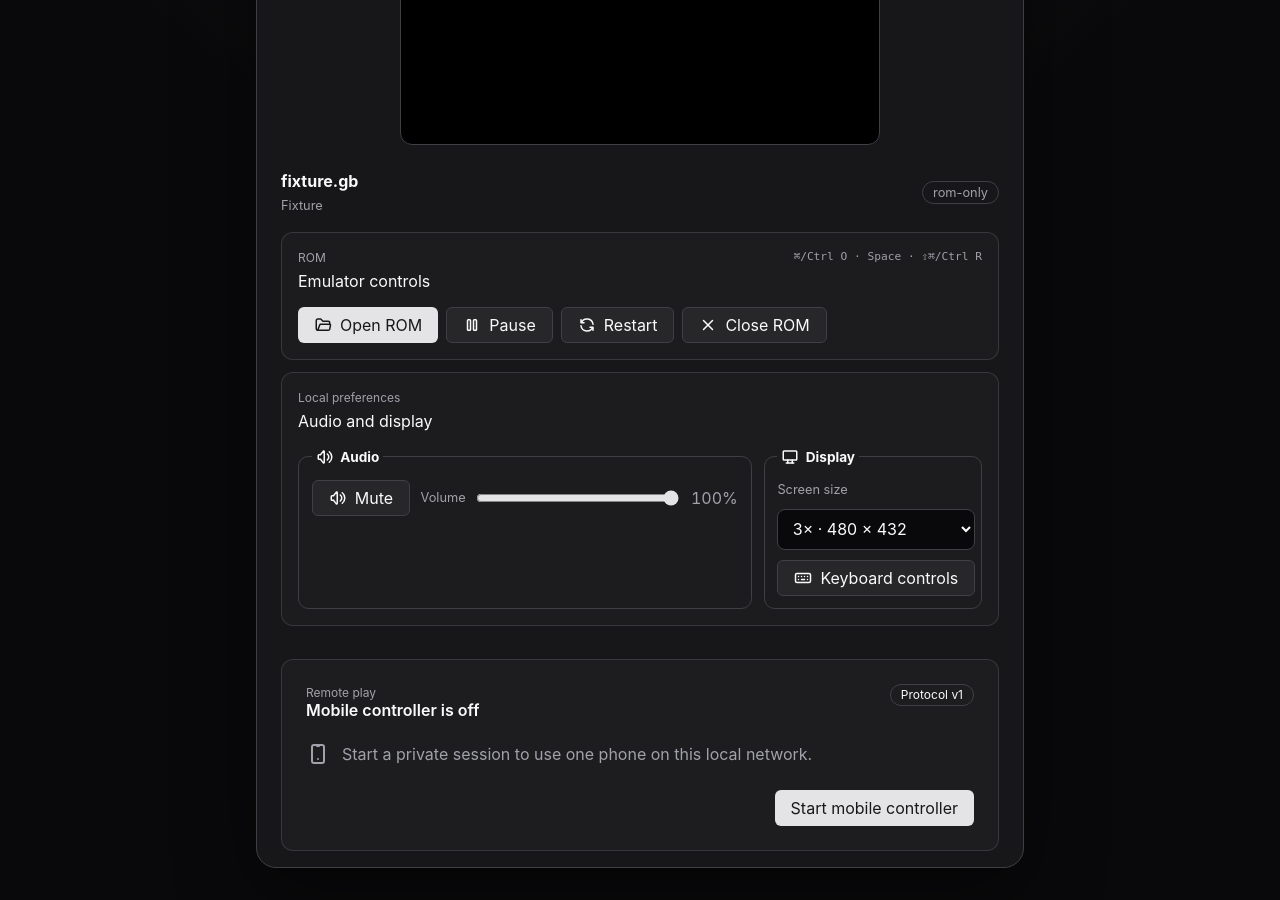
EmulatorPage lifecycle › activates a saved remap and suspends gameplay while the dialog is open
(page scrolled)
Click the button "Keyboard controls".
click(876, 578)  # box [777,560,975,596]
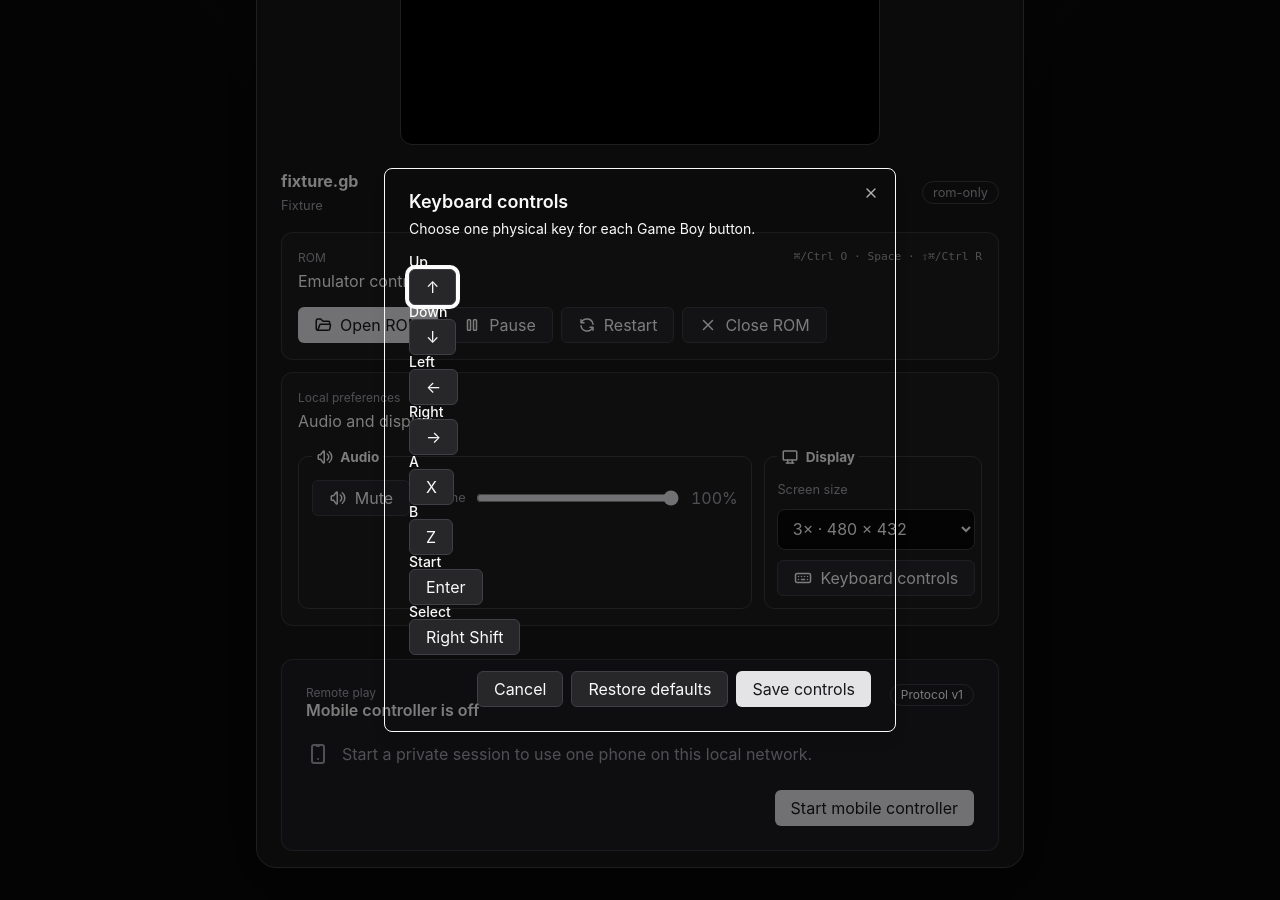
Click the button named "A: X".
click(431, 487)  # box [409,469,454,505]
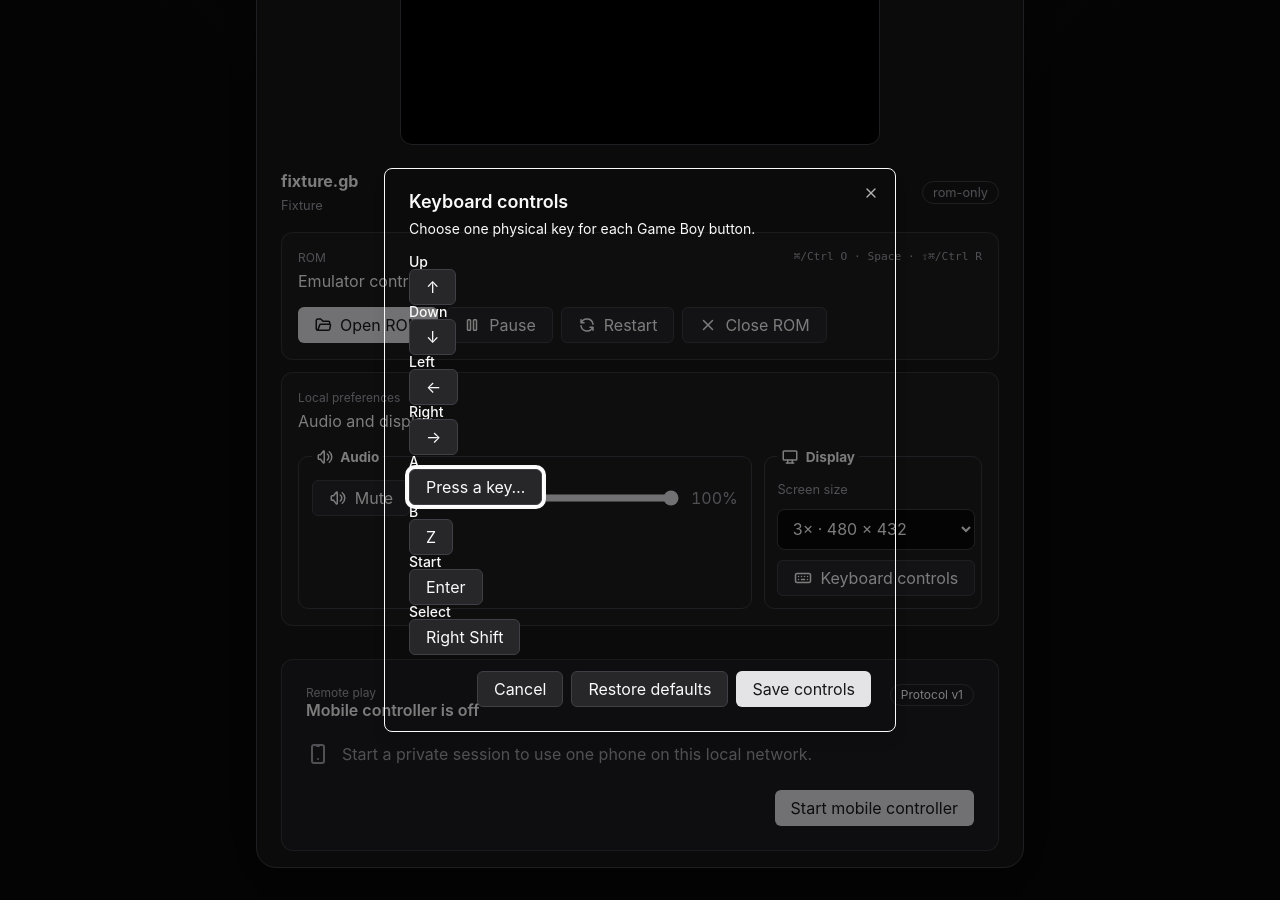
Press KeyQ in the button "Press a key…", box [409,469,542,505]
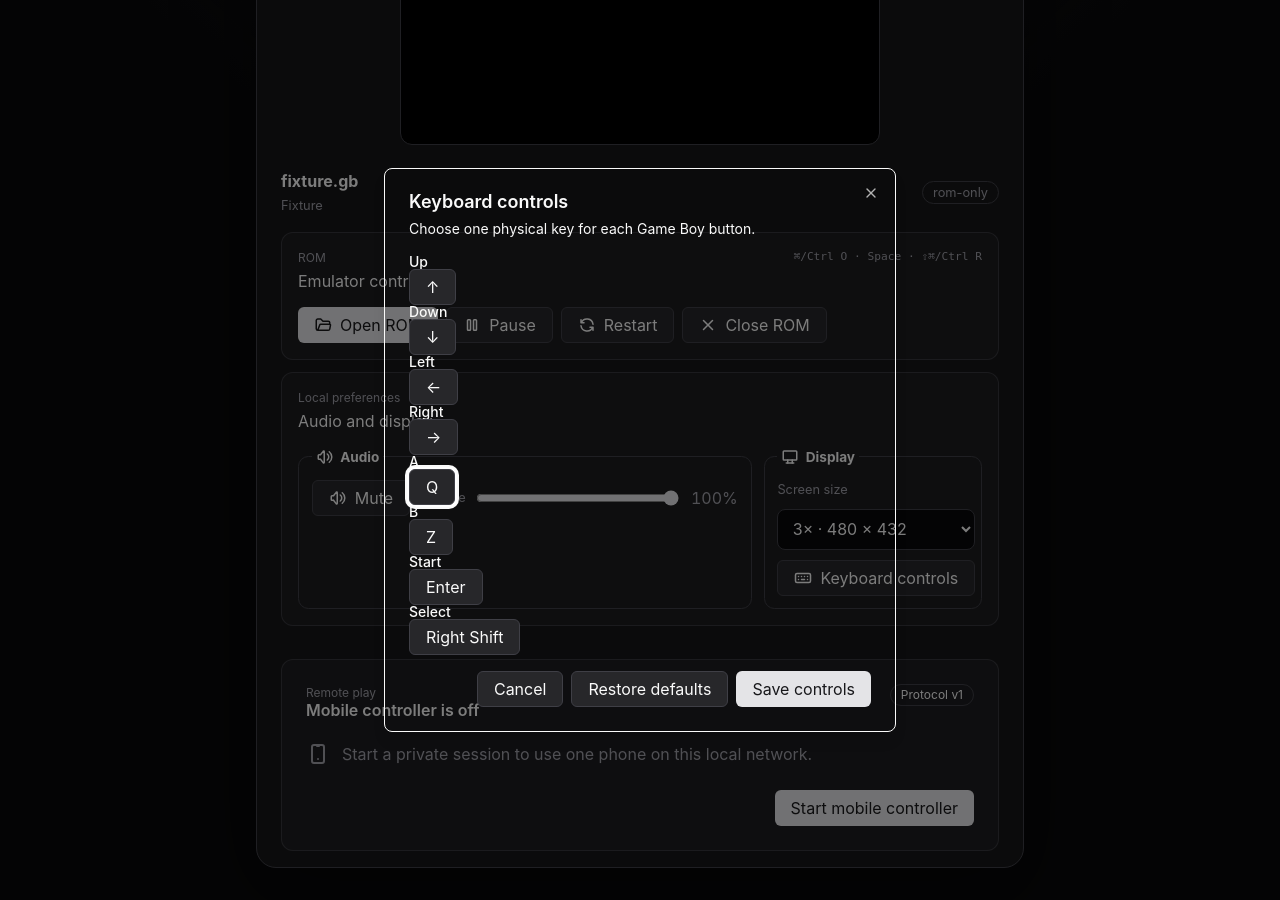
Click the button "Save controls".
click(804, 689)  # box [736,671,871,707]
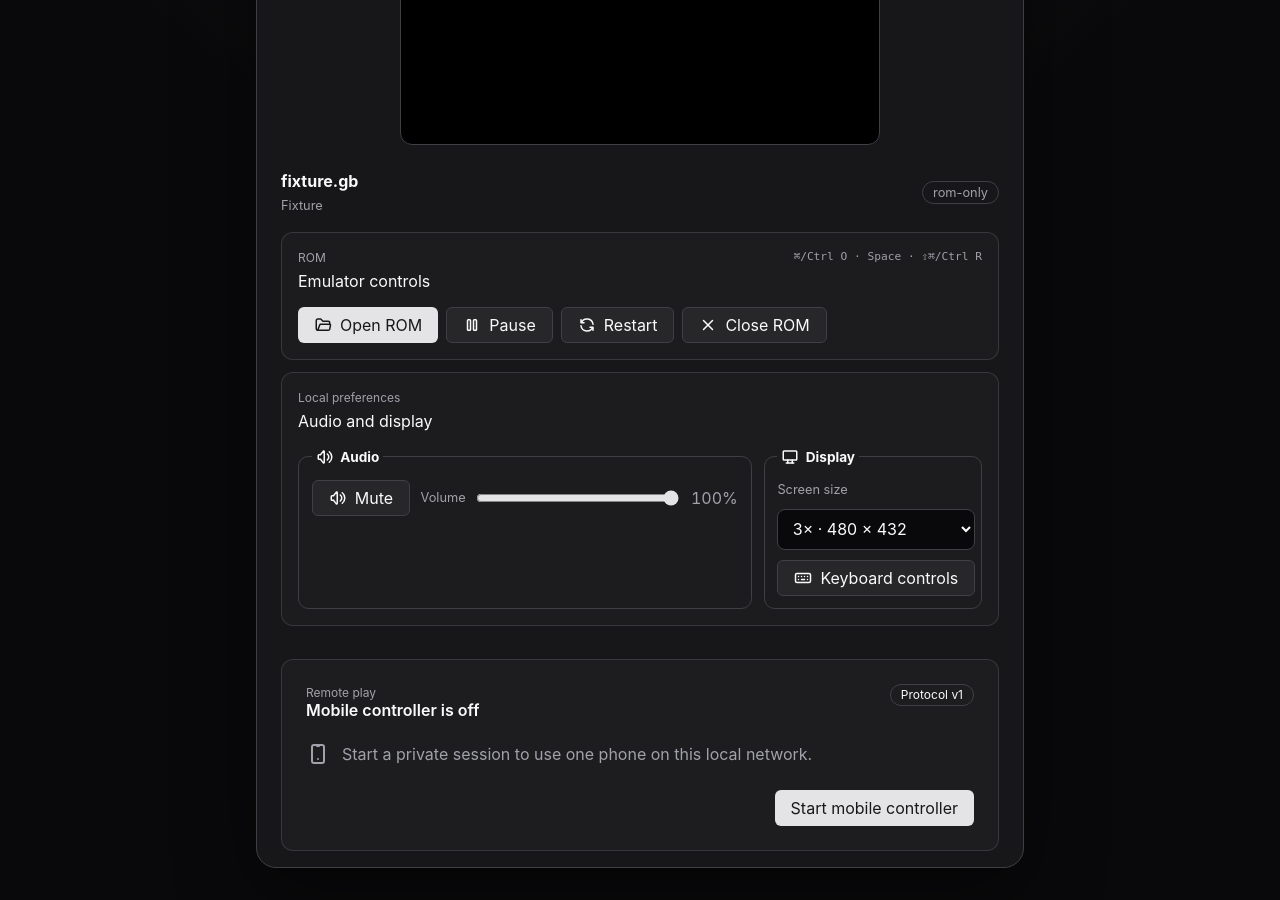
Check: the dialog is gone
